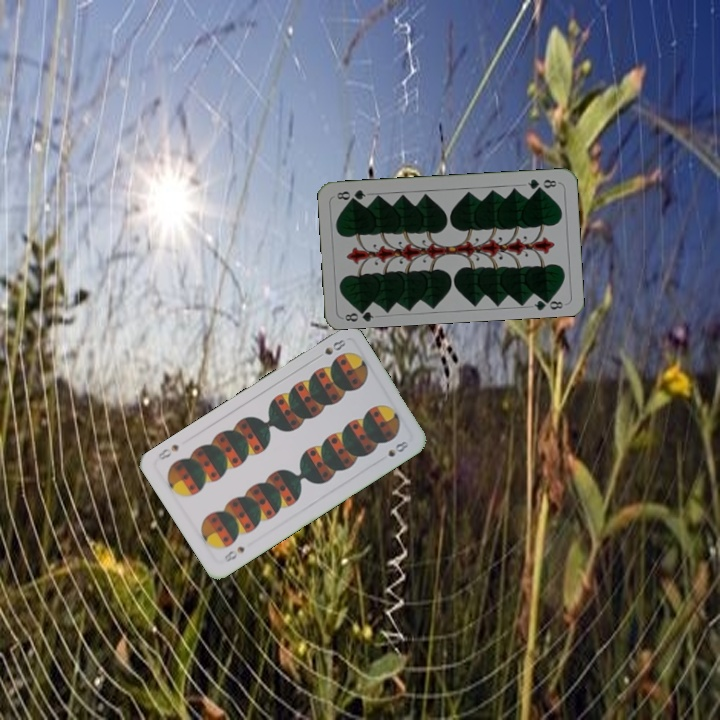G8: (341, 303, 376, 324), (524, 175, 559, 192)
S8: (312, 335, 349, 363), (220, 542, 247, 565)
